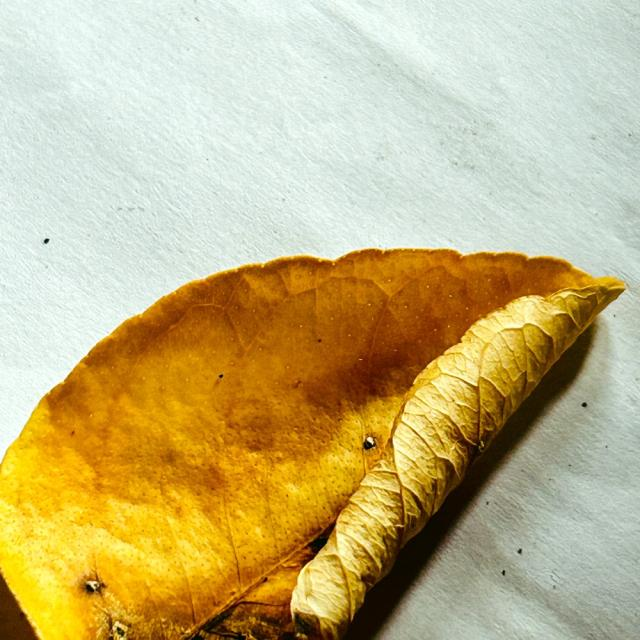DryLeaf_Lemon: (0, 249, 625, 639)
